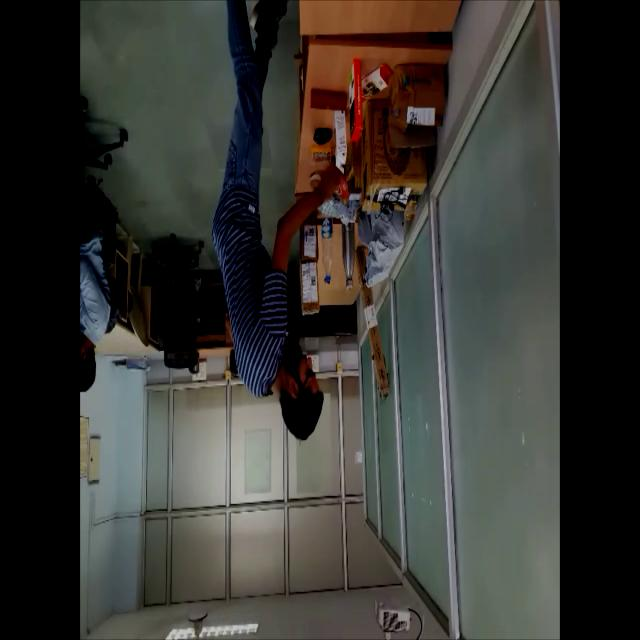normal: (214, 0, 345, 484)
